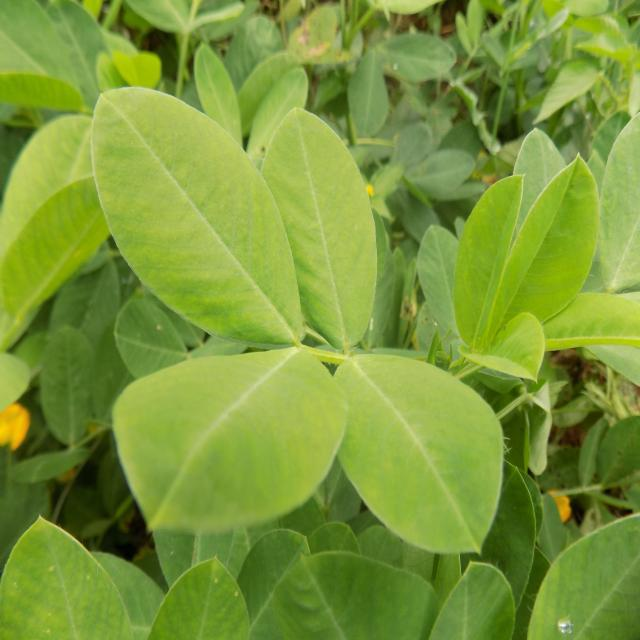Ground nut_healthy: (95, 88, 303, 346), (111, 356, 346, 532), (333, 351, 503, 552), (267, 106, 378, 349), (501, 156, 598, 333), (454, 177, 536, 341)
